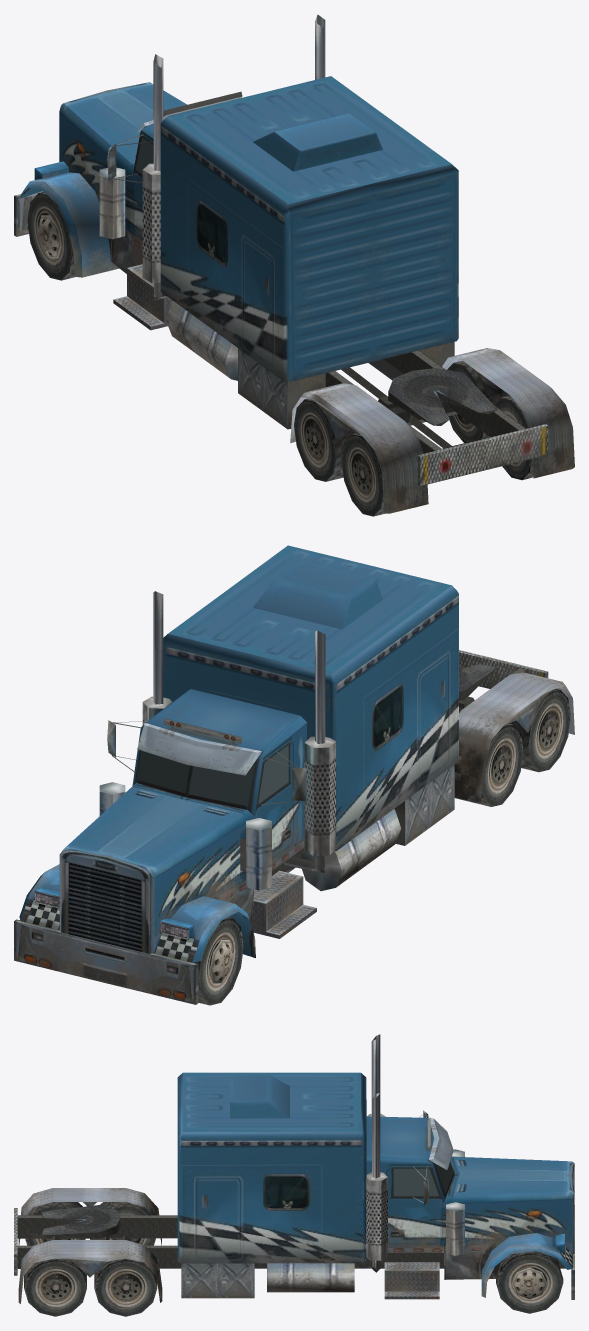
Rendered from p54_19_semi_sleeper_blue.glb.
3 views of the same model, one above another, from view 1: azimuth 30°, elevation 25°; view 2: azimuth 150°, elevation 25°; view 3: azimuth 270°, elevation 25° (orthographic). The views are drawn at different scales.
Parts seen in each view (by area): view 1: Body; view 2: Body, Glass; view 3: Body, Glass.
Boxes of the visible parts, left/top/right/bottom form: Body: left=14, top=14, right=574, bottom=516; Body: left=14, top=545, right=574, bottom=1005; Glass: left=137, top=745, right=288, bottom=806; Body: left=14, top=1034, right=574, bottom=1316; Glass: left=393, top=1163, right=453, bottom=1196.
Bounding box in the file's own units: 2.76 × 3.95 × 9.16.
Materials: 2 (2 with a texture image).
